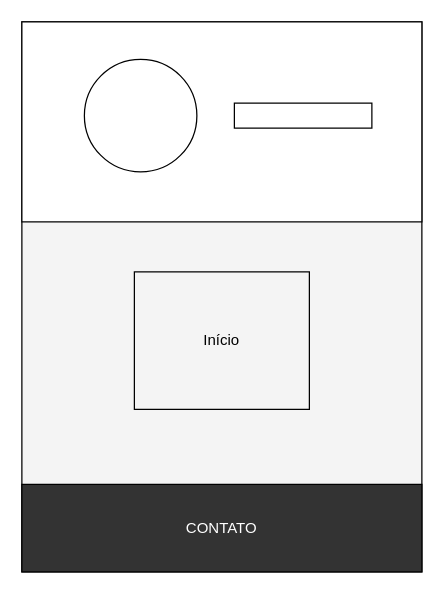
This 444x594 diagram has some shape labels left out. Here are the shapes that lost their labels. From the top down, the centre of each, then its label:
At (x=140, y=115): "FOTO".
At (x=302, y=115): "NOME".
